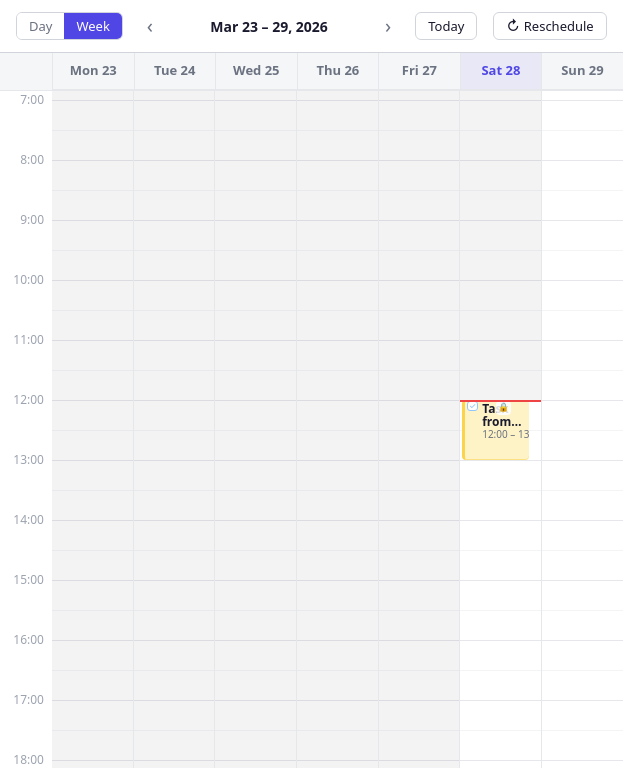
Test case: CalendarView — chunk context menu › unlocks a fixed chunk via the context menu
The image size is (640, 768).
(page scrolled)
Right-click the button with class "chunk-block" at (496, 430), box x1=462 y1=400 x2=529 y2=460
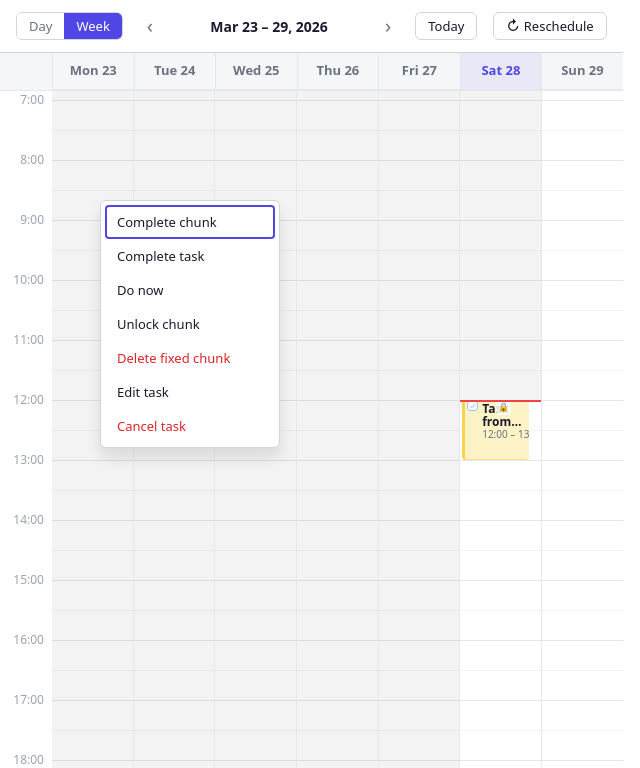
Expected: the menu is shown, x1=100 y1=200 x2=280 y2=448
Expected: the menu item "Unlock chunk" is shown
Click the menu item "Unlock chunk" at (190, 324), box x1=105 y1=307 x2=275 y2=341
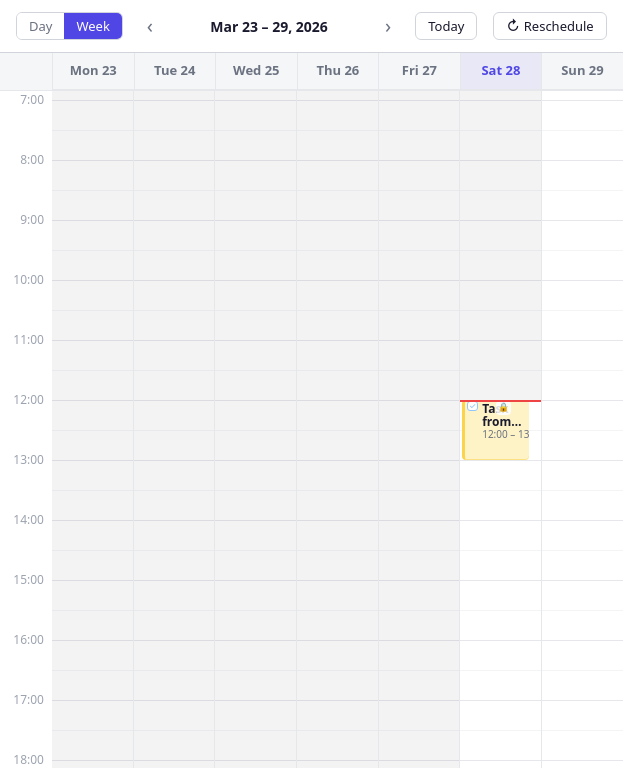
Expected: the menu is gone
